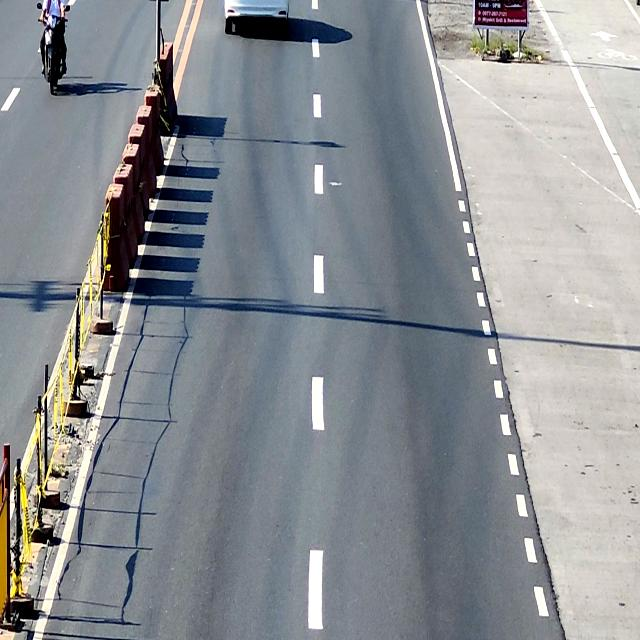Car: (224, 0, 289, 33)
Motorcycle: (37, 2, 70, 94)
